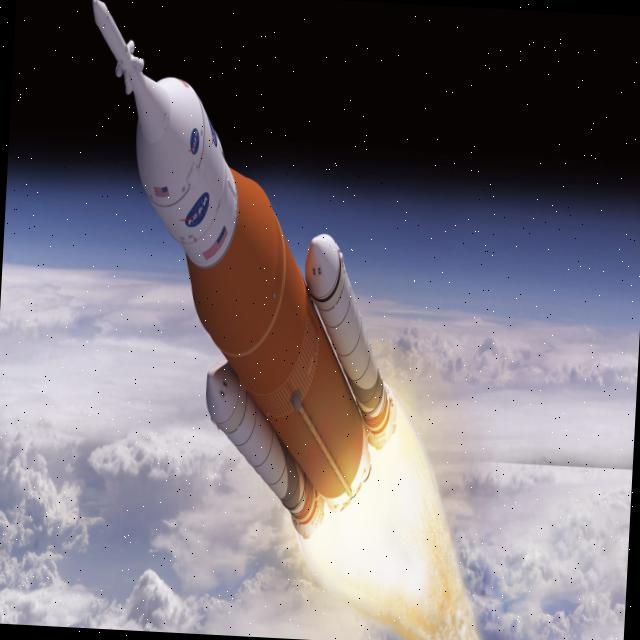rocket: (83, 0, 405, 550)
